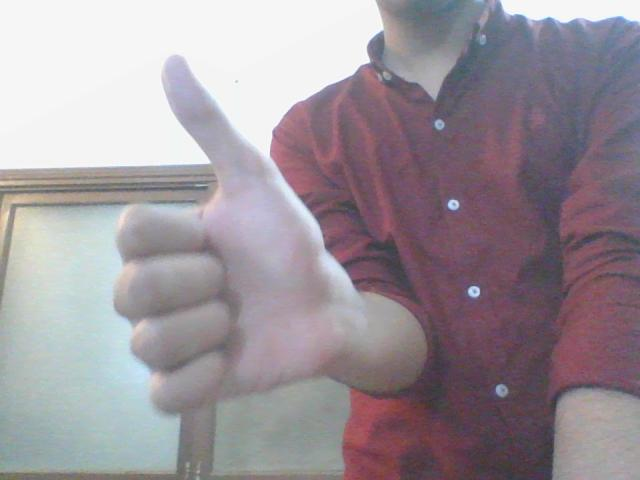thumbs-up: (116, 49, 322, 410)
